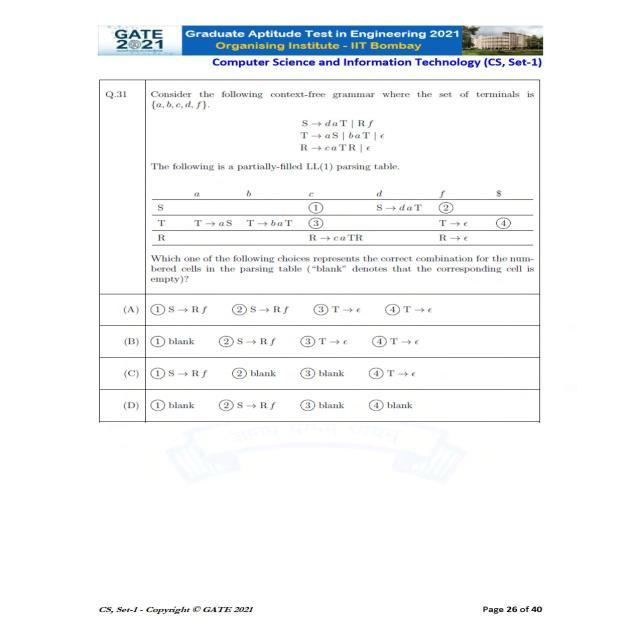Answer_Block: (60, 298, 606, 442)
Question_Answer_Block: (60, 74, 606, 444)
Question_Block: (60, 74, 606, 296)
Question_Paper_Area: (60, 74, 606, 444)
